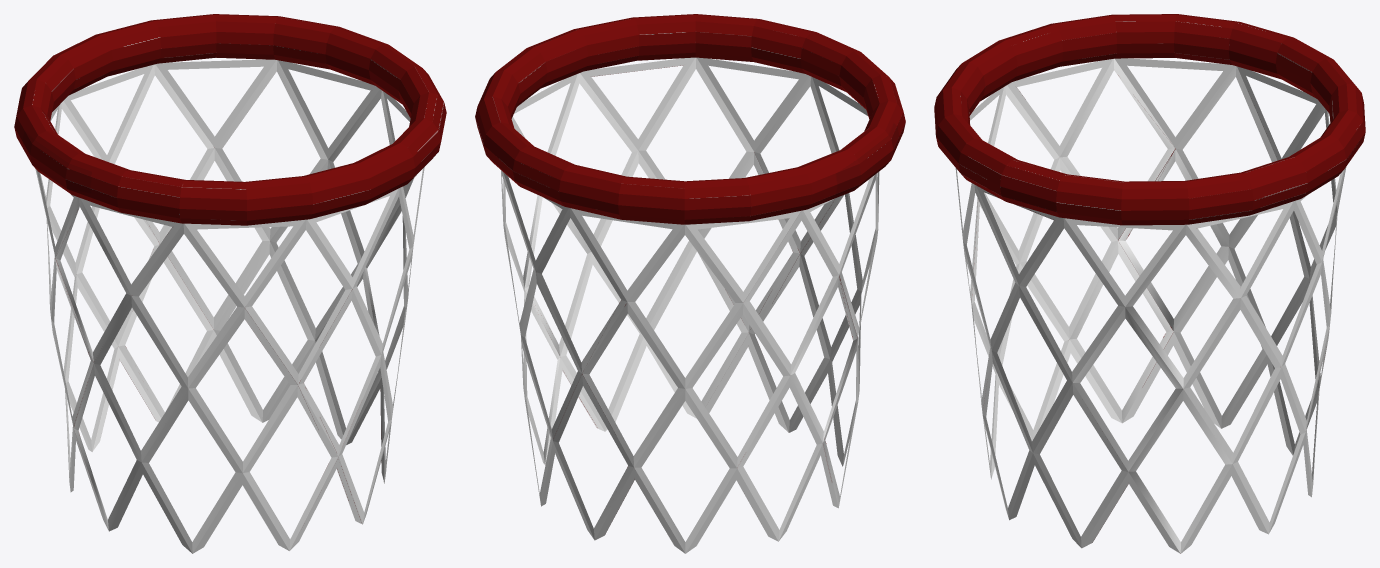
File: Aro.obj
The picture shows the model from 3 angles, left to right: view 1: azimuth 30°, elevation 25°; view 2: azimuth 150°, elevation 25°; view 3: azimuth 270°, elevation 25°; orthographic projection.
Visible parts, largest first — view 1: Ring.001; view 2: Ring.001; view 3: Ring.001.
Boxes of the visible parts, bbox=[...] form: Ring.001: bbox=[14, 14, 446, 553]; Ring.001: bbox=[475, 14, 905, 553]; Ring.001: bbox=[934, 14, 1365, 553].
Bounding box in the file's own units: 0.5 × 0.5 × 0.5.
Materials: 2 (2 with a texture image).
